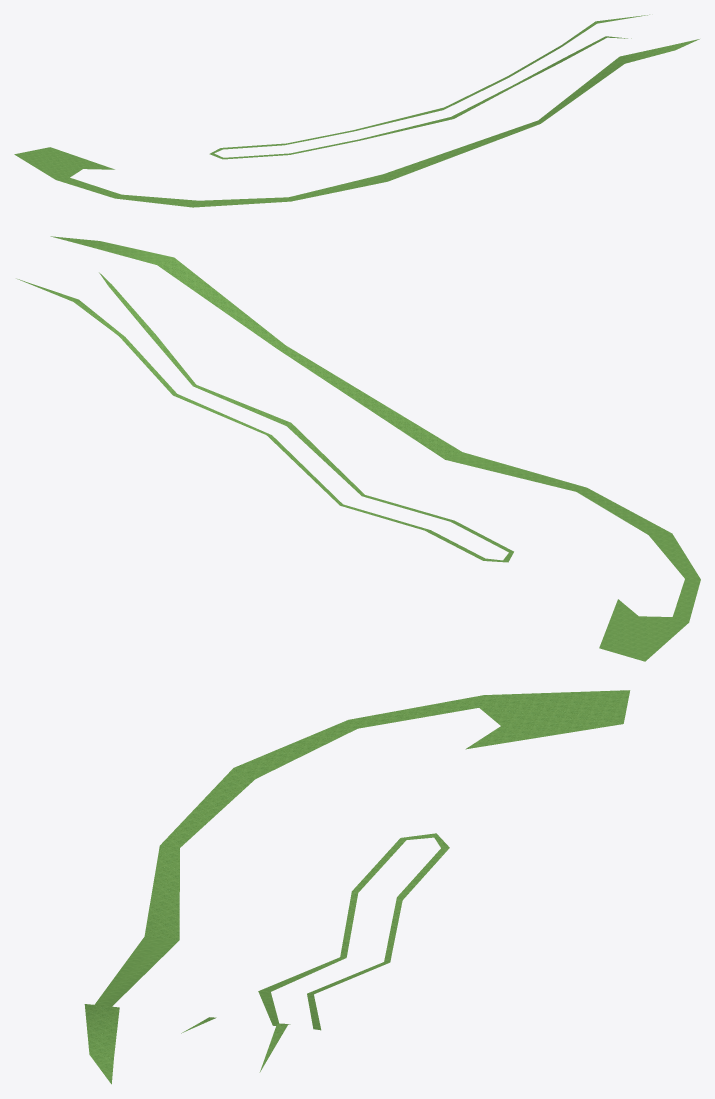
Rendered from kd_connection_world-inner_surface_10_26.glb.
3 views of the same model, one above another, from view 1: azimuth 30°, elevation 25°; view 2: azimuth 150°, elevation 25°; view 3: azimuth 270°, elevation 25° (orthographic). The views are drawn at different scales.
Parts seen in each view (by area): view 1: kd_connection_world-inner_surface_10_26; view 2: kd_connection_world-inner_surface_10_26; view 3: kd_connection_world-inner_surface_10_26.
Part boxes in pixels (<box>): kd_connection_world-inner_surface_10_26: <box>14,14,699,207</box>; kd_connection_world-inner_surface_10_26: <box>16,236,700,661</box>; kd_connection_world-inner_surface_10_26: <box>84,690,630,1084</box>.
Size of the model in its own units: 141 by 18 by 59.62.
1 material, 1 textured.
